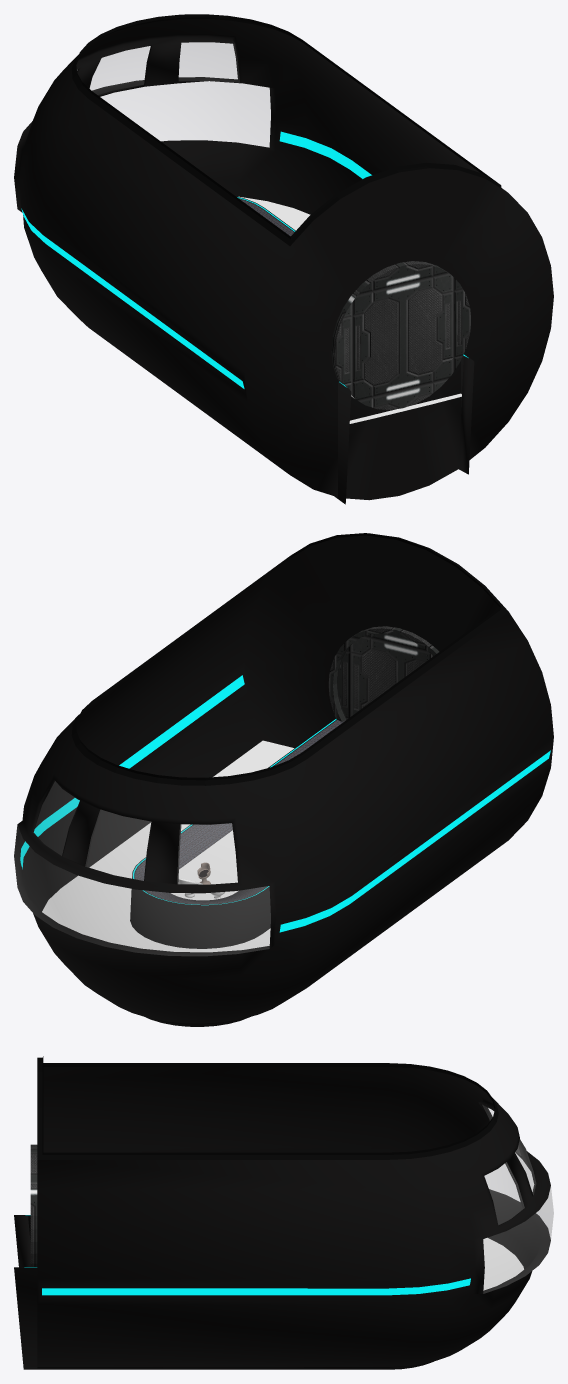
File: ship8.glb
3 views of the same model, one above another, from view 1: azimuth 30°, elevation 25°; view 2: azimuth 150°, elevation 25°; view 3: azimuth 270°, elevation 25° (orthographic). The views are drawn at different scales.
Visible parts, largest first — view 1: Sci_Fi_Space_Station; view 2: Sci_Fi_Space_Station; view 3: Sci_Fi_Space_Station.
Part boxes in pixels (box(x1,y1,x2,y2)): Sci_Fi_Space_Station: box(14, 14, 553, 504); Sci_Fi_Space_Station: box(14, 533, 553, 1026); Sci_Fi_Space_Station: box(14, 1056, 553, 1369).
Bounding box in the file's own units: 67.7 × 68.29 × 118.
11 materials, 3 textured.
